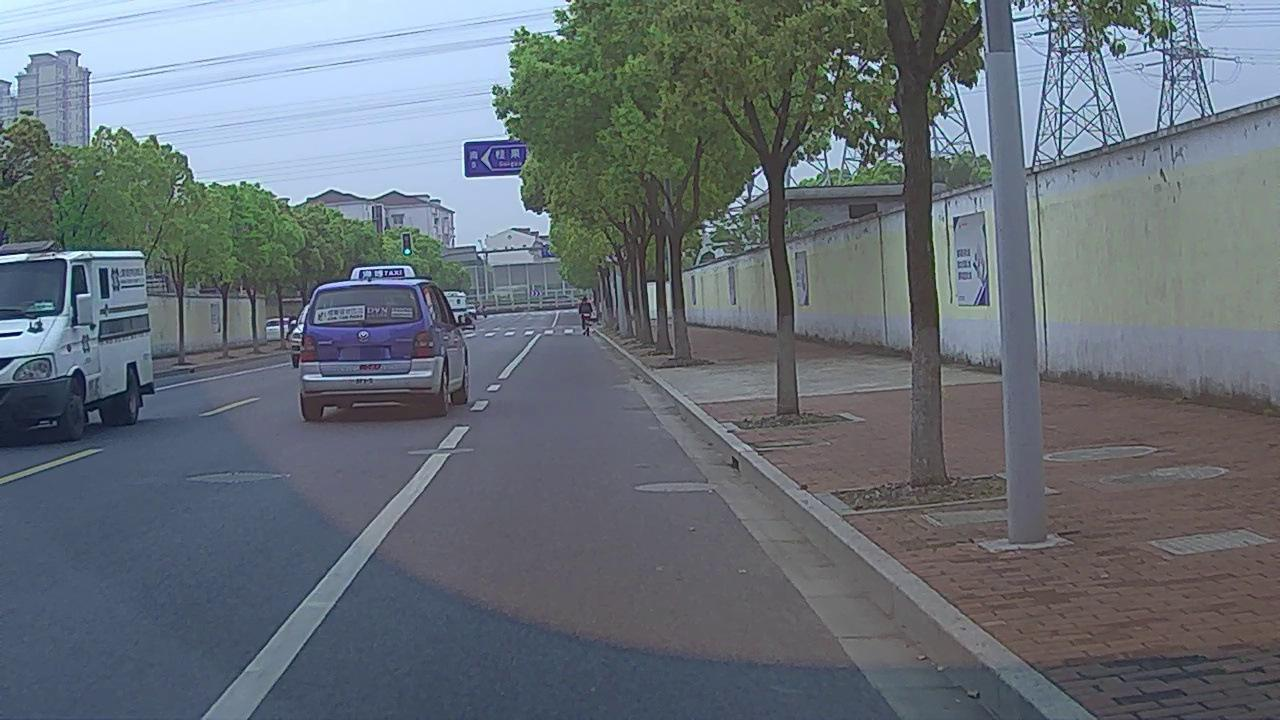traffic_light: (401, 233, 411, 255)
